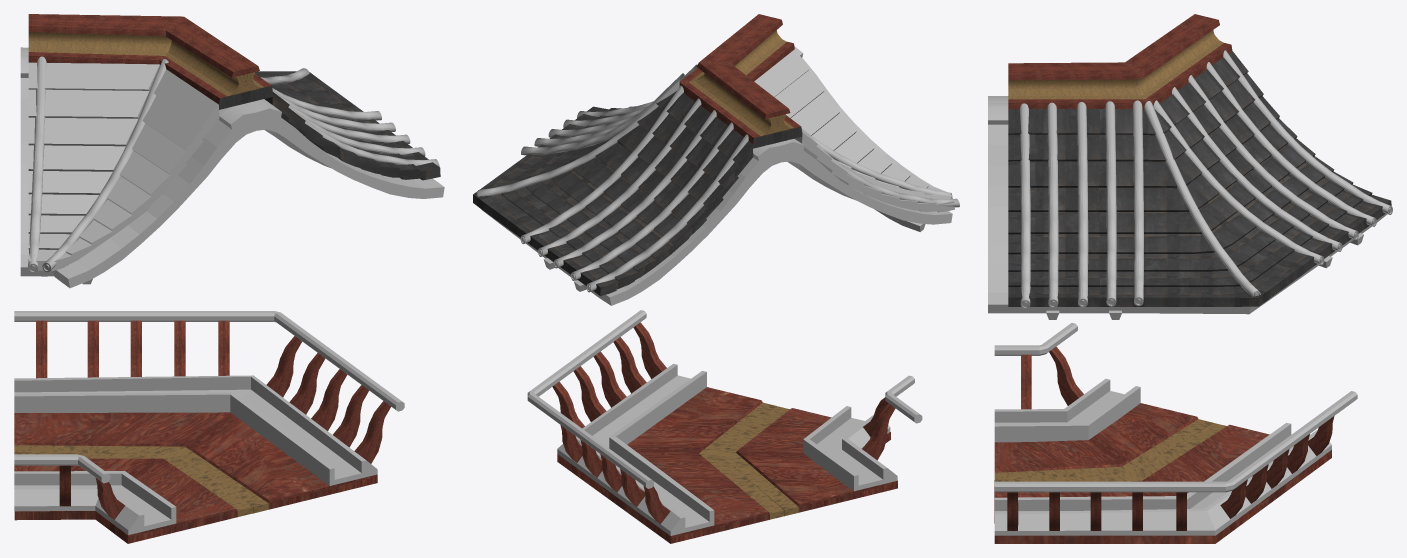
File: cornerCorridor.fbx
3 renders of one model, left to right at view 1: azimuth 30°, elevation 25°; view 2: azimuth 150°, elevation 25°; view 3: azimuth 270°, elevation 25°, orthographic. The views are drawn at different scales.
Parts seen in each view (by area): view 1: polySurface124, floor10, pCube31, section6_RoofSect3_pCube3, floor9, polySurface119, pCube34, polySurface125, pCube35, polySurface117, pCube50, polySurface140 (+20 smaller); view 2: polySurface125, floor10, pCube31, floor9, polySurface124, pCube34, polySurface120, pCube50, section6_RoofSect3_pCube3, pCube35, polySurface117, polySurface133 (+17 smaller); view 3: polySurface125, pCube31, floor10, floor9, pCube50, polySurface118, pCube34, pCube35, polySurface120, polySurface137, polySurface135, polySurface133 (+18 smaller).
Boxes of the visible parts, x1,y1,x2,y2 form: polySurface124: (28, 62, 219, 271); floor10: (14, 412, 377, 513); pCube31: (14, 375, 377, 485); section6_RoofSect3_pCube3: (20, 54, 256, 288); floor9: (14, 453, 252, 543); polySurface119: (28, 20, 174, 64); pCube34: (14, 471, 176, 534); polySurface125: (255, 71, 440, 180); pCube35: (14, 311, 404, 411); polySurface117: (159, 24, 245, 109); pCube50: (20, 47, 444, 198); polySurface140: (28, 56, 46, 273); polySurface125: (473, 91, 753, 296); floor10: (557, 387, 784, 543); pCube31: (557, 363, 714, 535); floor9: (718, 406, 897, 516); polySurface124: (754, 49, 954, 212); pCube34: (803, 406, 897, 491); polySurface120: (679, 62, 777, 148); pCube50: (481, 143, 781, 305); section6_RoofSect3_pCube3: (777, 46, 952, 224); pCube35: (527, 310, 653, 488); polySurface117: (715, 17, 794, 81); polySurface133: (477, 79, 679, 196); polySurface125: (1008, 51, 1391, 306); pCube31: (994, 422, 1331, 535); floor10: (994, 423, 1331, 543); floor9: (994, 403, 1212, 479); pCube50: (988, 103, 1387, 314); polySurface118: (1008, 68, 1147, 109); pCube34: (994, 378, 1140, 442); pCube35: (994, 391, 1357, 492); polySurface120: (1133, 17, 1232, 106); polySurface137: (1105, 101, 1116, 306); polySurface135: (1047, 102, 1058, 308); polySurface133: (1144, 101, 1260, 296).
Size of the model in its own units: 4.99 by 5.03 by 4.43.
